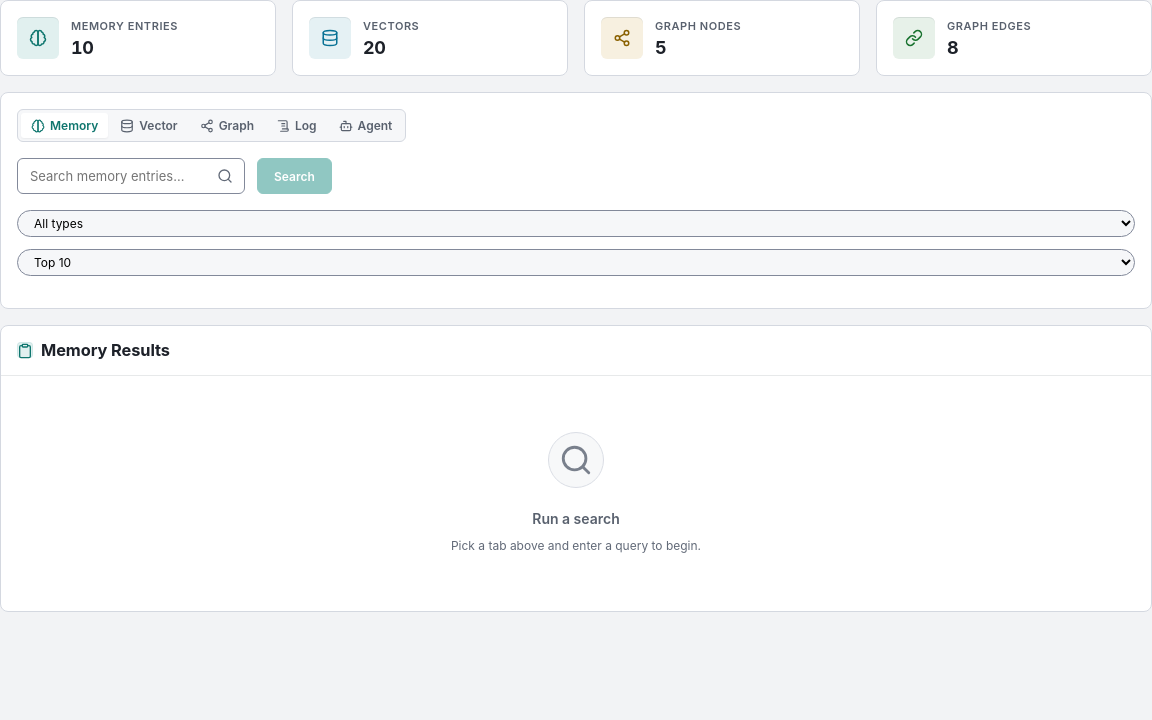
Test: Search.vue › shows empty state when search returns no results
Type "test" into the field with class "search-input" at [131, 176], box [17,158,245,194]
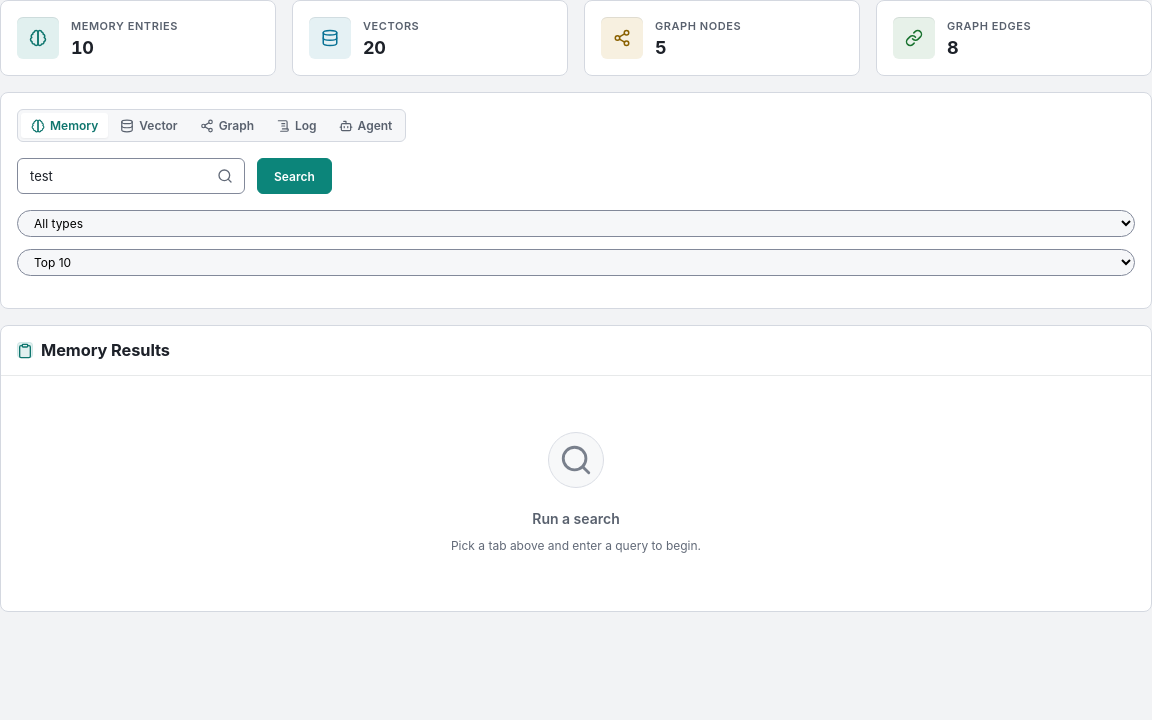
Click the button "Search" at [294, 176], box [257,158,332,194]
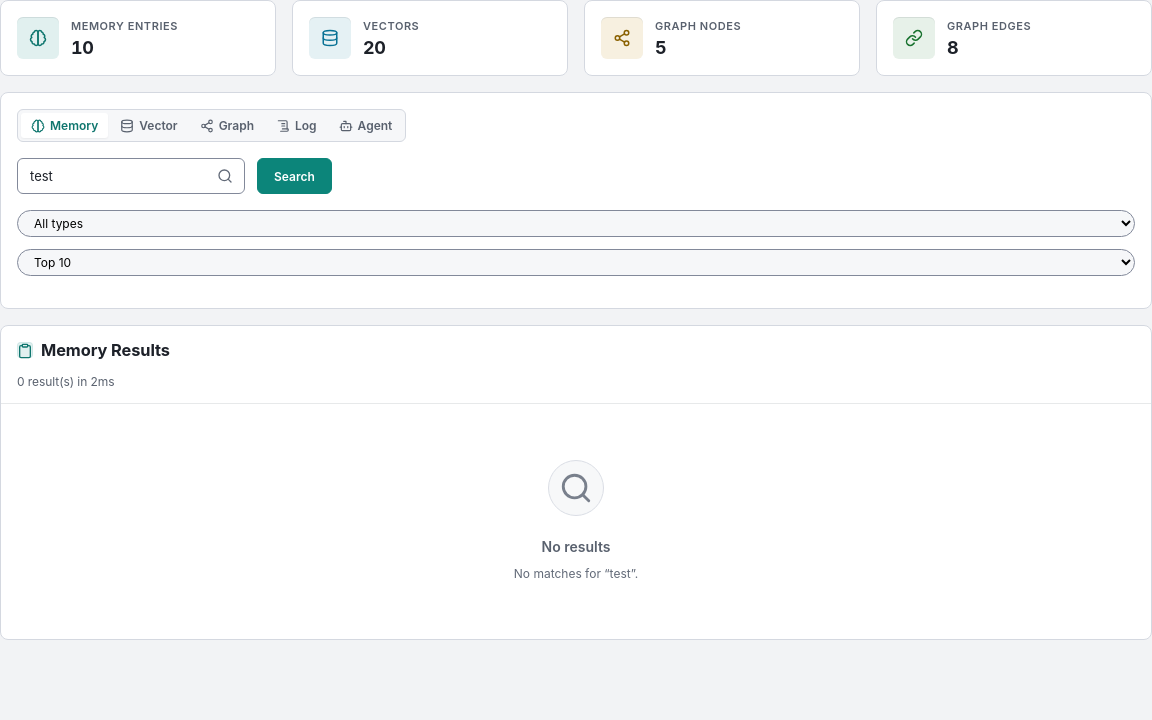
Check: the text "No matches for “test”." is shown, box [514,565,638,583]
